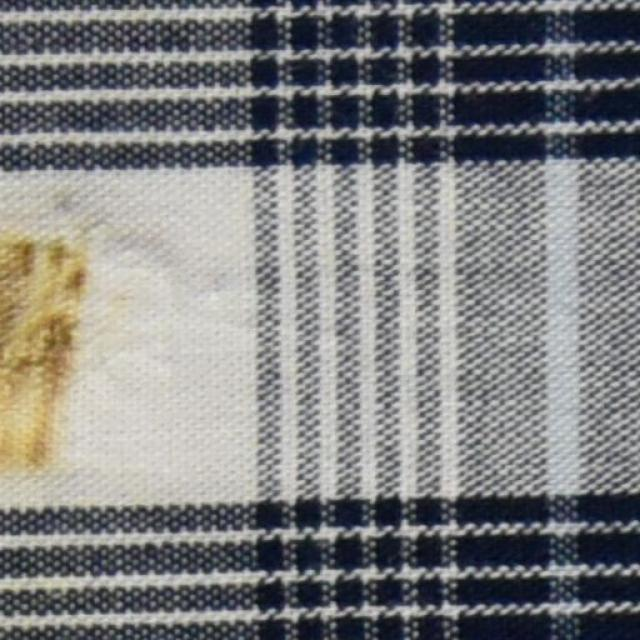Stain: (0, 226, 101, 474)
